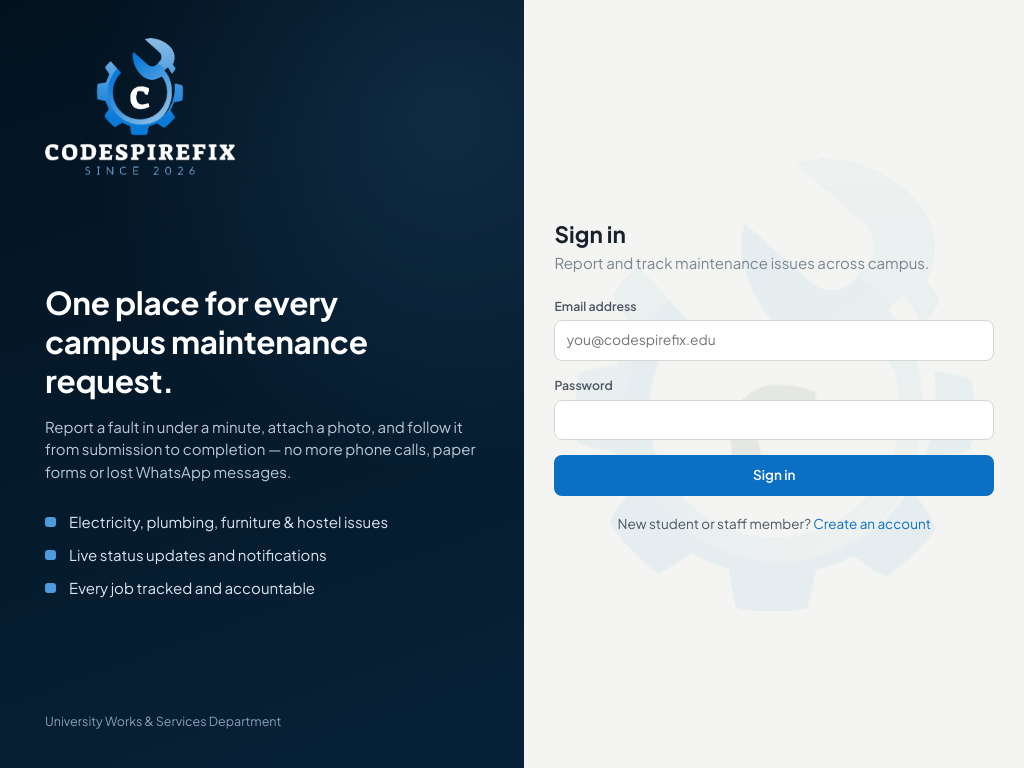
it: Login page › shows the server error message on failed login
Type "student@codespirefix.edu" into the field labelled "Email address".
click(774, 341); type("student@codespirefix.edu")  # box [554, 320, 994, 361]
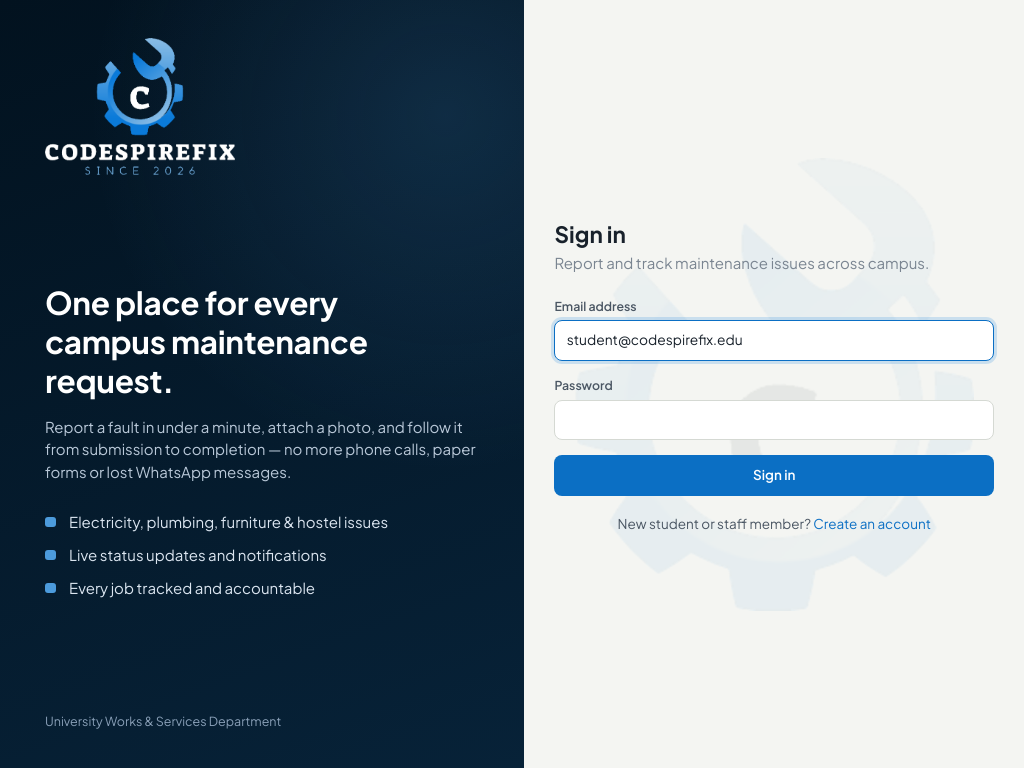
Type "wrong-pass1" into the password field labelled "Password".
click(774, 420); type("wrong-pass1")  # box [554, 400, 994, 440]
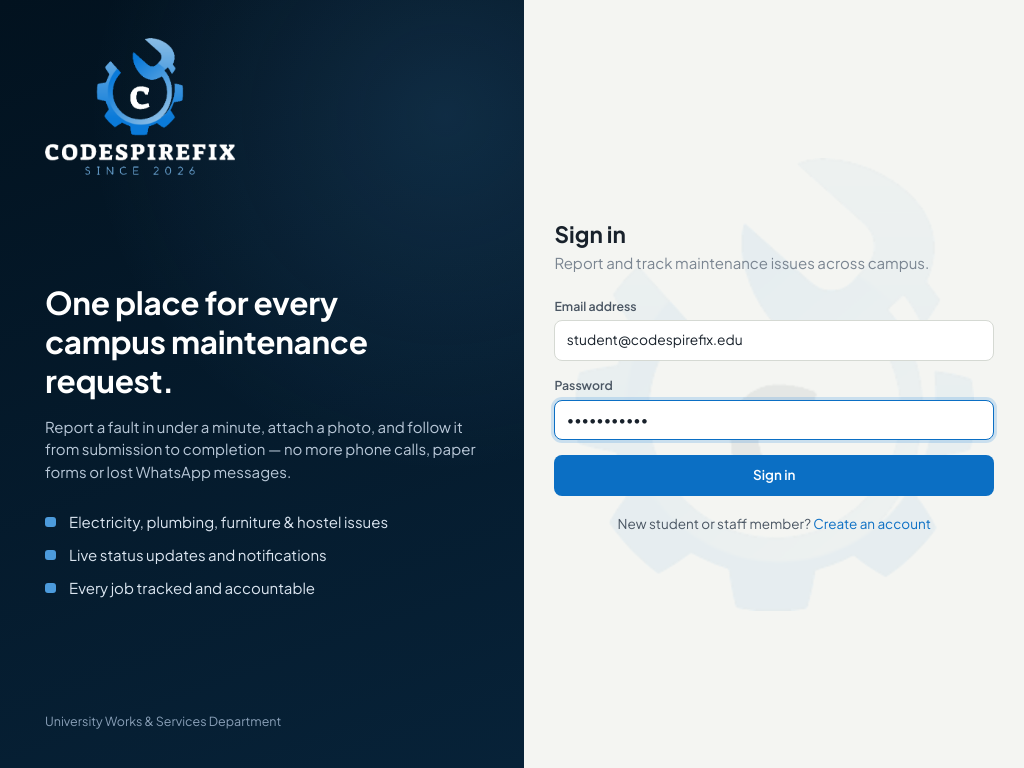
Click the button "Sign in".
click(774, 476)  # box [554, 455, 994, 496]
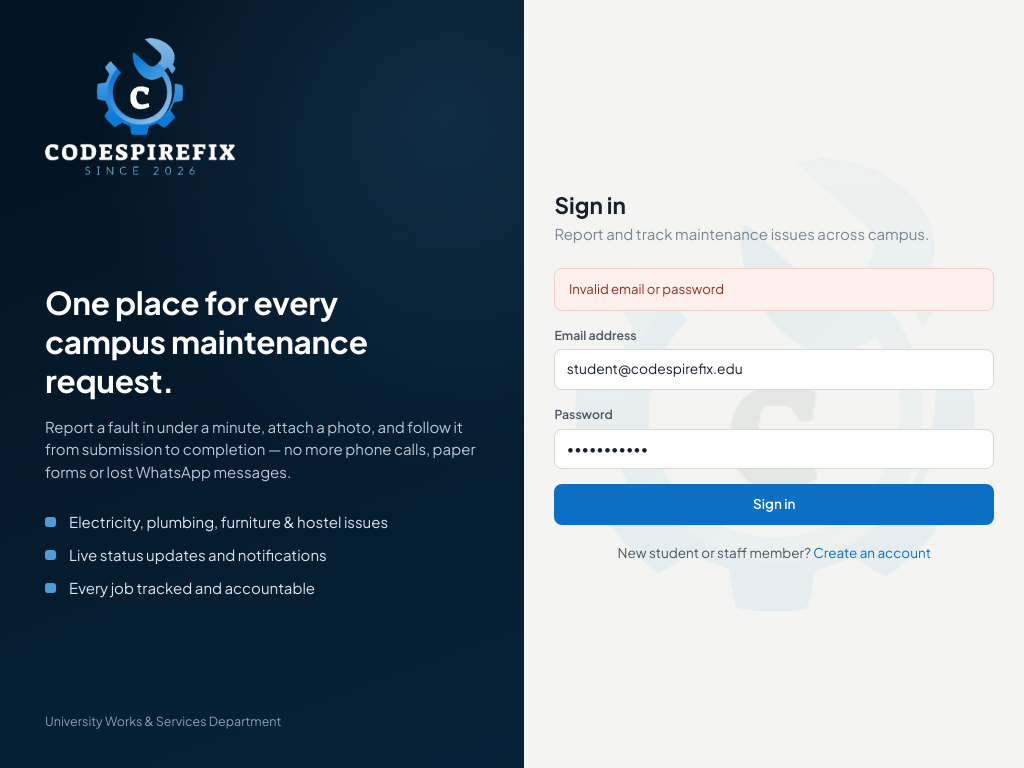
Check: the message reads "Invalid email or password", box [569, 280, 724, 297]
